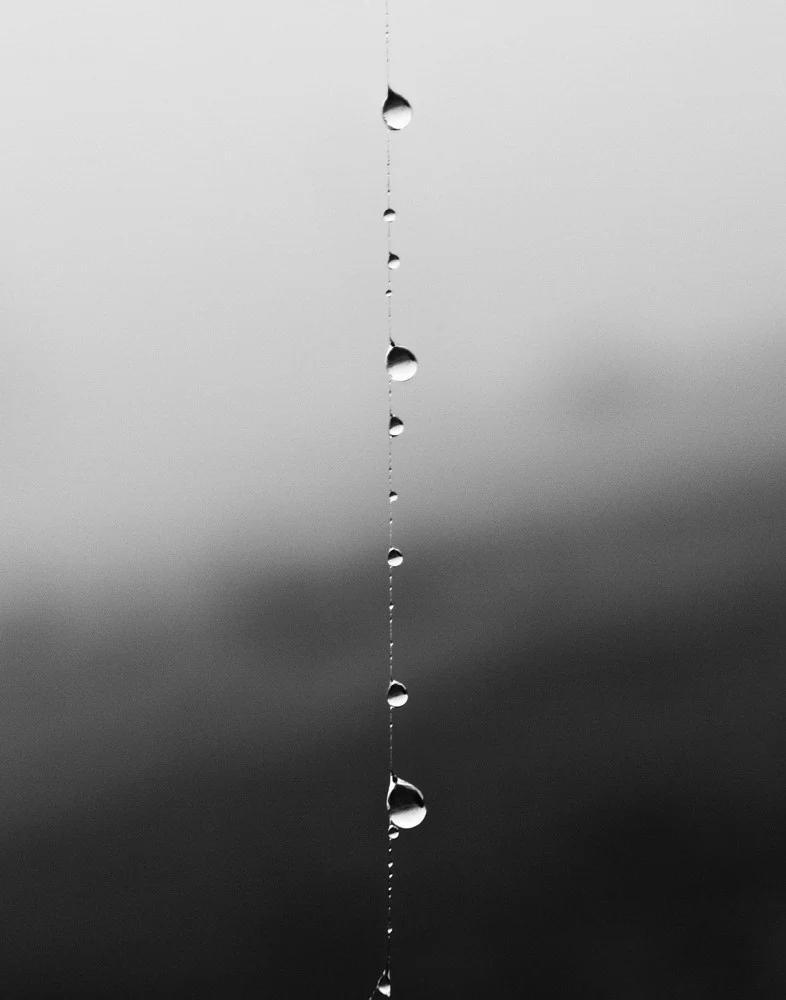water drop: (386, 776, 428, 832), (385, 338, 420, 382), (383, 87, 415, 130)
